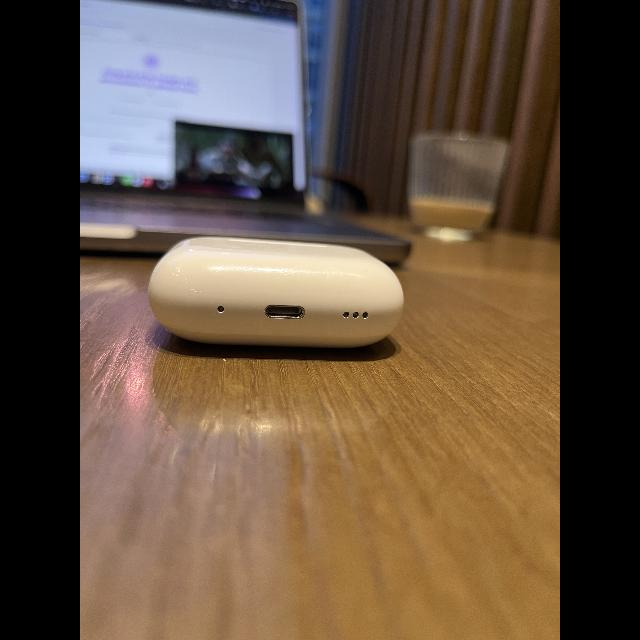AirPods Pro: (142, 224, 418, 368)
